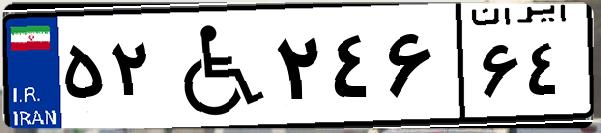2: (270, 28, 330, 110), (110, 28, 158, 98)
4: (330, 28, 385, 110), (525, 38, 570, 115)
5: (57, 26, 110, 100)
6: (385, 28, 445, 110), (475, 38, 525, 113)
ژ (معلولین و جانبازان): (158, 12, 270, 120)
